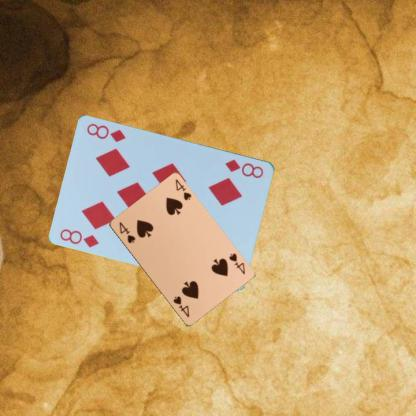4s: (116, 219, 136, 244), (226, 250, 246, 275)
8d: (57, 226, 101, 248), (223, 156, 265, 179)
